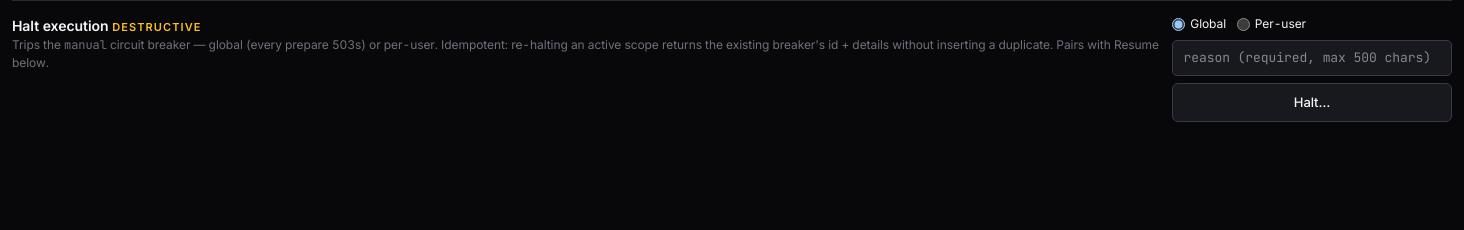
Test: HaltExecutionSection › shows "already_active" callout with existing details on idempotent re-halt
This screenshot has width=1464, height=230.
In the field with placeholder "reason (required, max 500 chars)": coordinates (1312, 58) [1172,40,1452,76], type "second attempt"
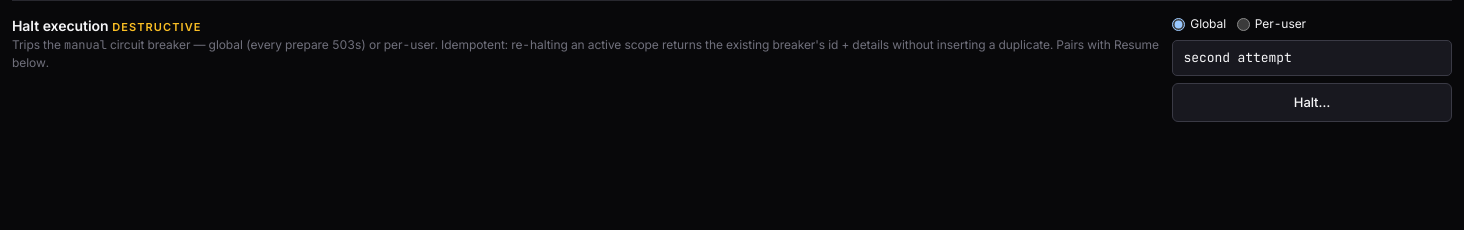
Click the button "Halt…": coordinates (1312, 102) [1172,82,1452,122]
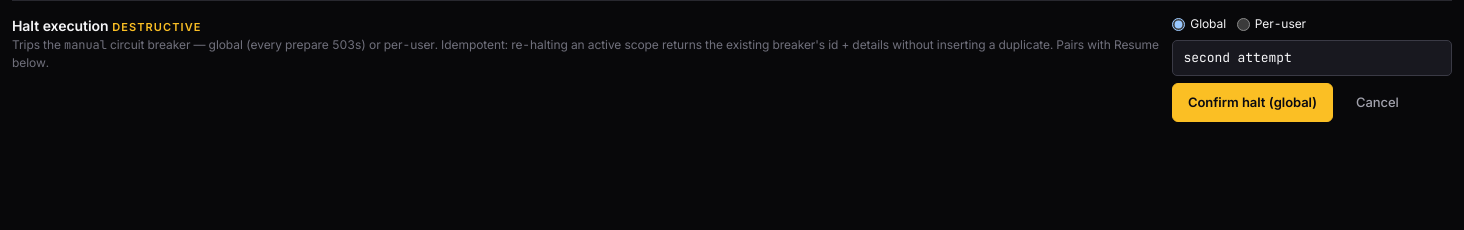
Click the button "Confirm halt (global)": coordinates (1252, 102) [1172,82,1333,122]
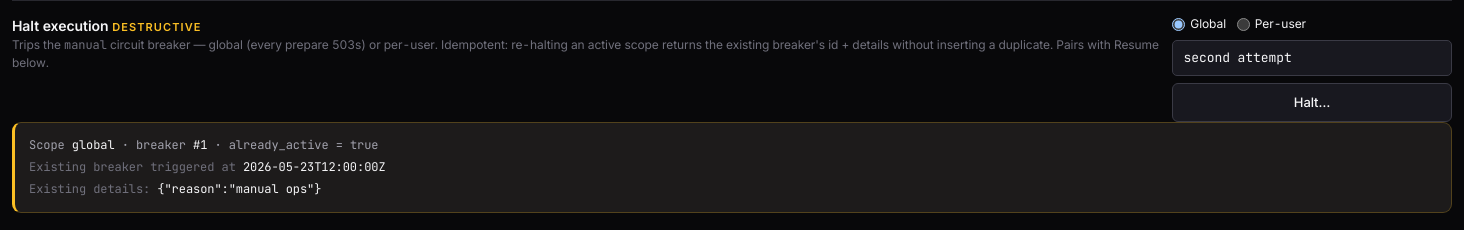
Expected: the text "already_active = true" is shown, [229,137,378,153]
Expected: the text "2026-05-23T12:00:00Z" is shown, [243,159,386,175]
Expected: the text "{\"reason\":\"manual ops\"}" is shown, [157,181,321,197]
